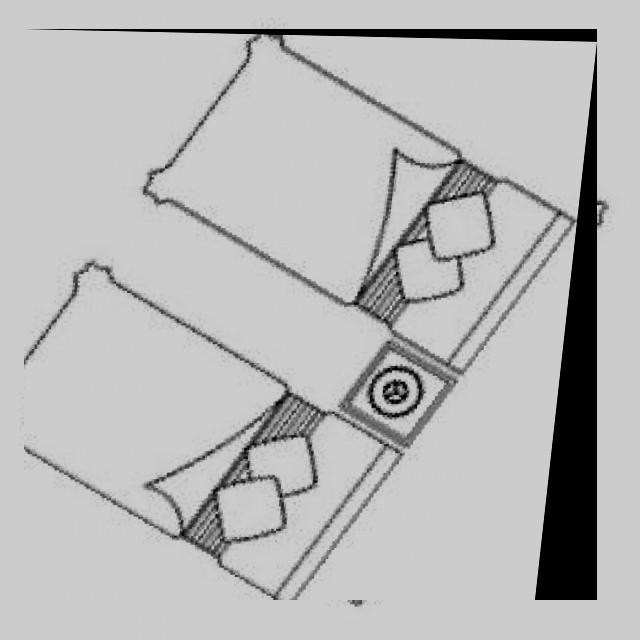bed: (24, 29, 597, 600)
